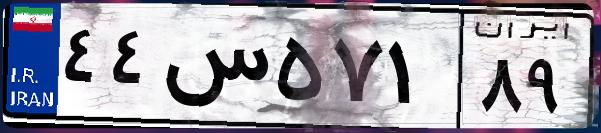1: (385, 28, 445, 110)
4: (57, 26, 110, 100), (110, 28, 158, 98)
5: (270, 28, 330, 110)
7: (330, 28, 385, 110)
8: (475, 38, 525, 113)
9: (525, 38, 570, 115)
س: (158, 20, 270, 120)
